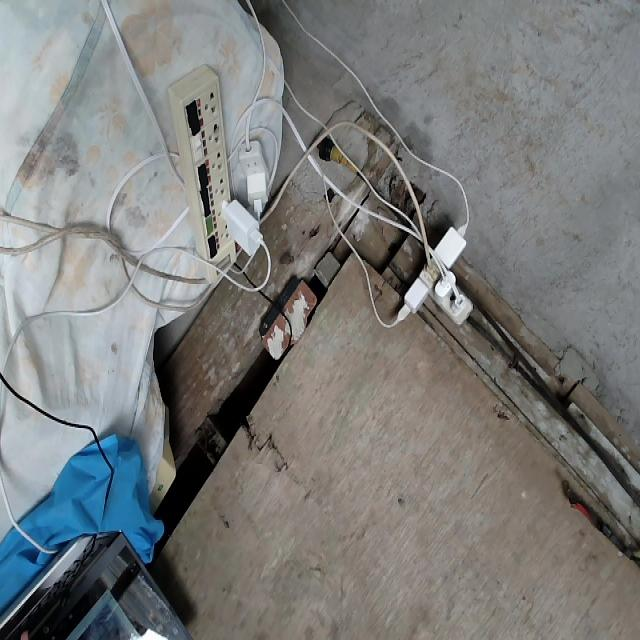-: (392, 221, 472, 324)
